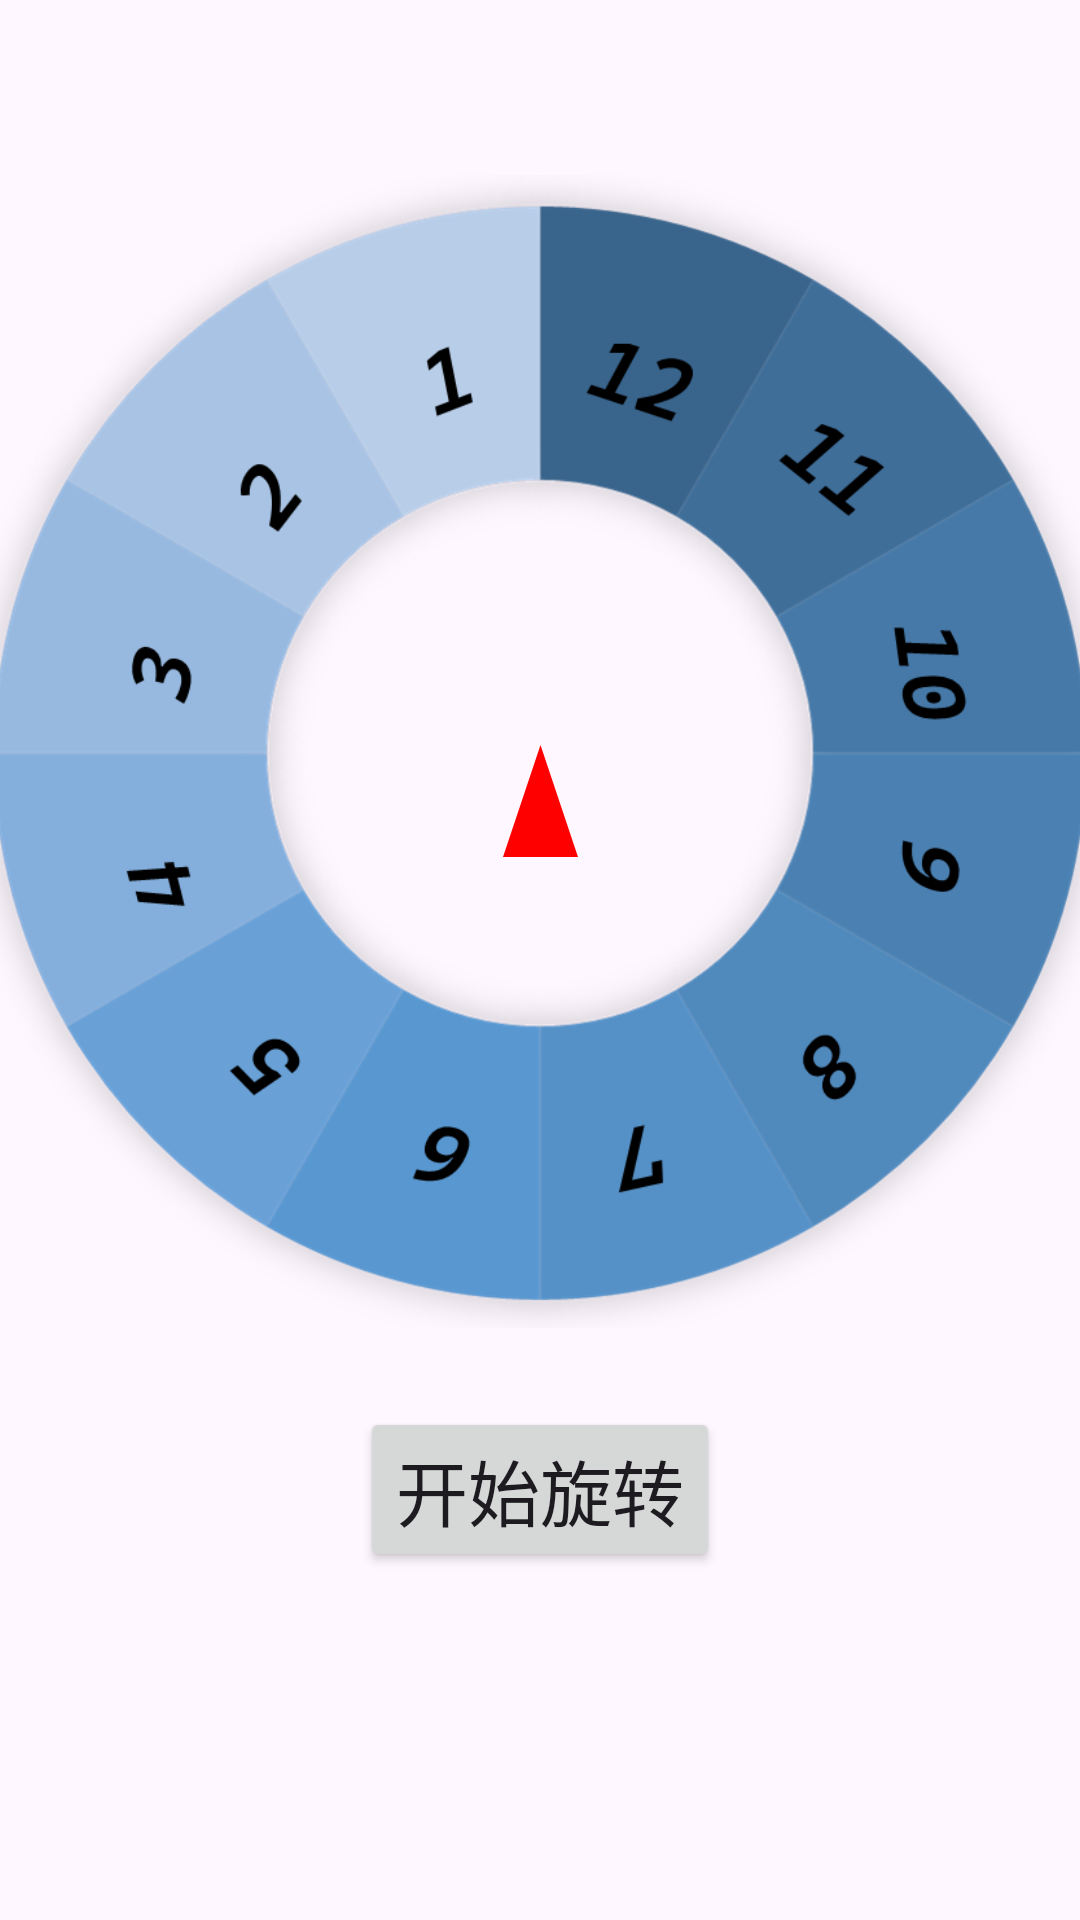

Point at icon controls on the screen. Image size 1080*1920, points as (x=x, y=y).
arrow: (x=540, y=801)
